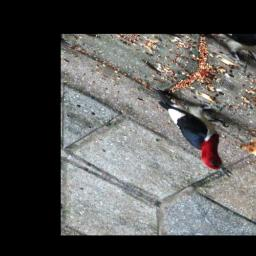Woodpecker: (127, 72, 256, 184)
